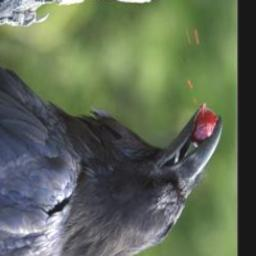Crow: (0, 0, 224, 256)
